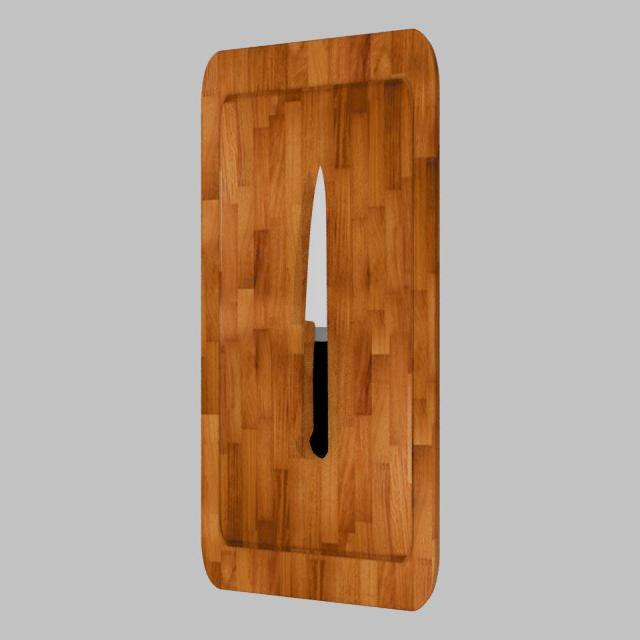knife: (310, 341, 328, 458)
